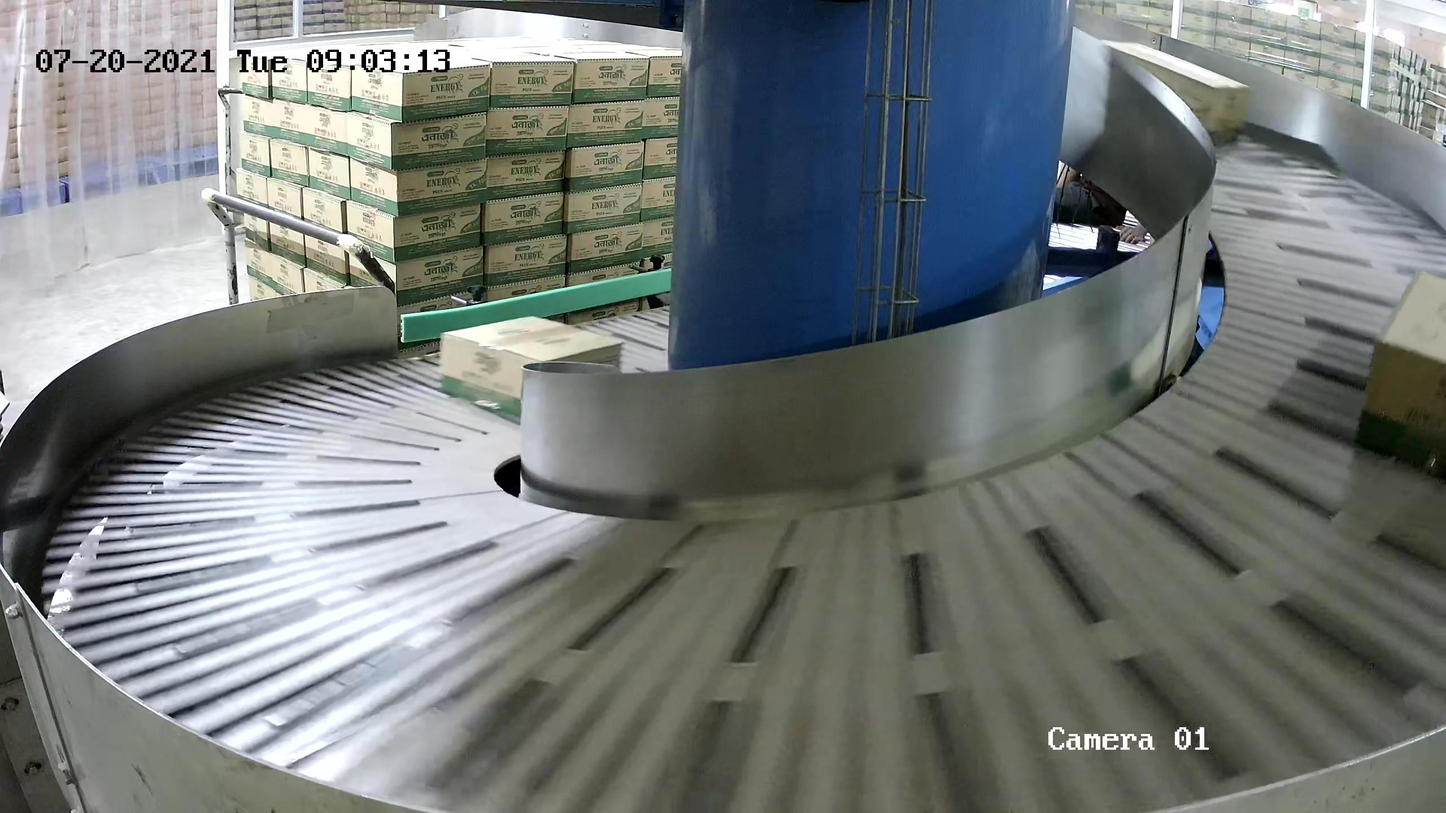Box: (439, 315, 626, 420), (1355, 268, 1446, 477), (1098, 38, 1250, 141)
